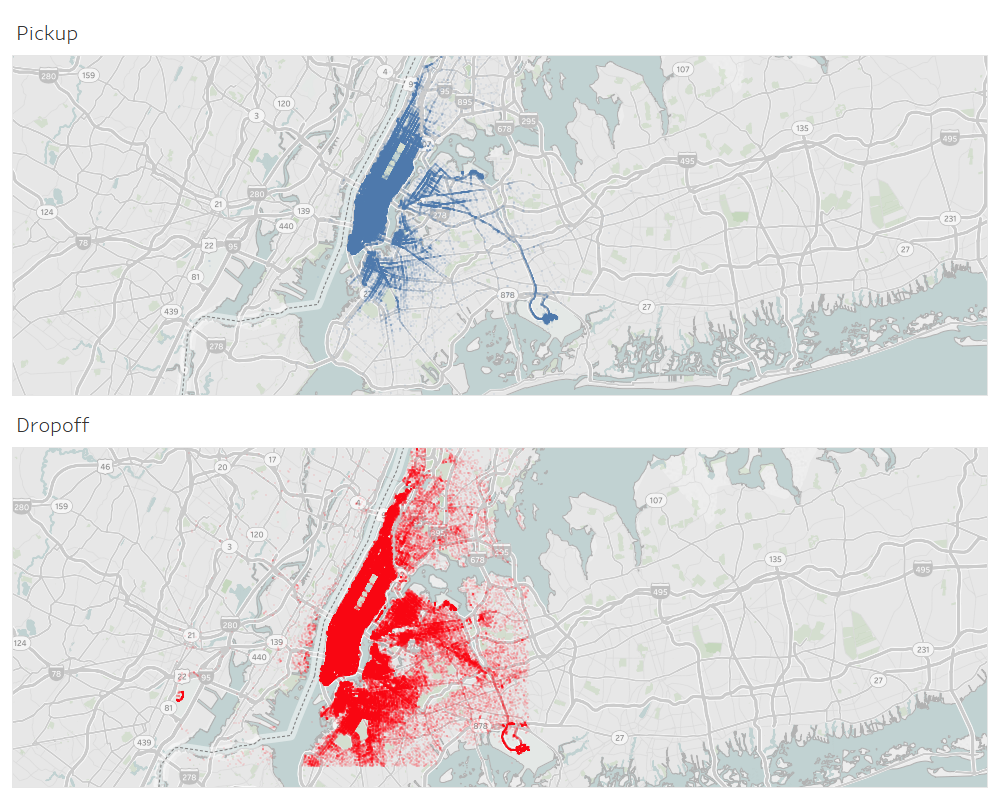

What the dashboard file says about the page in this screenshot:
{"tool":"tableau","page":{"name":"Pickup/Dropoff","canvas":[1000,800],"ordinal":3},"visuals":[{"type":"worksheet","title":"Pickup","mark":"Automatic","rows":["Calculation_347340130978074628"],"cols":["Calculation_347340130978222085"],"box":[8,8,984,392]},{"type":"worksheet","title":"Dropoff","mark":"Automatic","rows":["Calculation_347340130977636354"],"cols":["Calculation_347340130977902595"],"box":[8,400,984,392]}]}

Visuals, with their boxes in screenshot pixels (x1, y1, x2, y2), scaled from the page's 1000x800 canvas onto the 1000x800 screenshot:
"Pickup" worksheet: 8, 8, 992, 400
"Dropoff" worksheet: 8, 400, 992, 792
